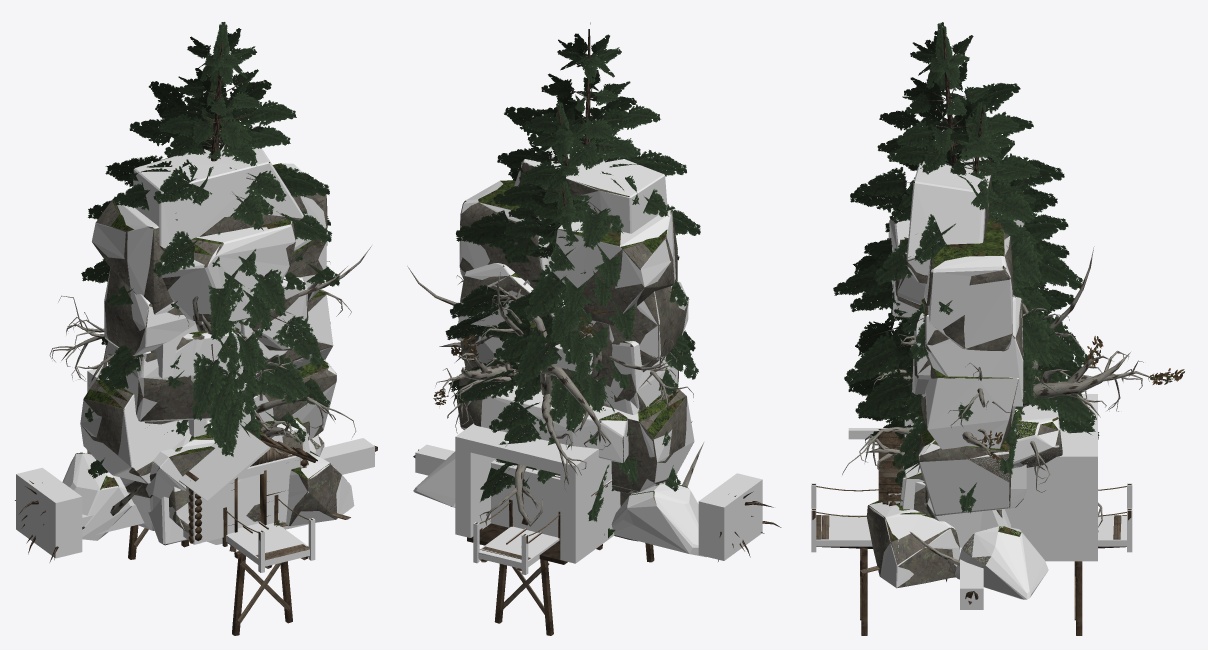
File: Kit_Forest.fbx
The picture shows the model from 3 angles, left to right: view 1: azimuth 30°, elevation 25°; view 2: azimuth 150°, elevation 25°; view 3: azimuth 270°, elevation 25°; orthographic projection. The views are drawn at different scales.
Parts seen in each view (by area): view 1: Tree_Pine_B, CliffChunk_A, COL_Block_5_CONVEX (×2), COL_Block_6_CONVEX, Tree_Pine_A, COL_RootPlate, COL_Block_1_CONVEX, COL_Block_3_CONVEX (×2), Bridge_Broken, COL_Block_7_CONVEX, COL_RocksL_CONVEX, COL_Block_0_CONVEX (×2) (+17 smaller); view 2: Tree_Pine_B, CliffChunk_A, Tree_Pine_C, Tree_Pine_A, COL_Block_6_CONVEX (×2), COL_RocksL_CONVEX, COL_Block_7_CONVEX, COL_RootPlate, COL_Wall_L, COL_RocksTop_CONVEX, COL_Ceiling, Tree_Dead_B (+16 smaller); view 3: Tree_Pine_B, Tree_Pine_A, COL_Block_6_CONVEX (×2), COL_Wall_R, CliffChunk_A, COL_Block_8_CONVEX, COL_Block_4_CONVEX (×2), COL_Block_2_CONVEX, COL_RocksR_CONVEX, Tree_Pine_C, Boulder_Large, Tree_Gnarled (+16 smaller).
Part boxes in pixels (x1=…): Tree_Pine_B: x1=81, y1=22, x2=339, y2=420; CliffChunk_A: x1=82, y1=163, x2=336, y2=498; COL_Block_5_CONVEX (×2): x1=104, y1=221, x2=295, y2=355; COL_Block_6_CONVEX: x1=133, y1=143, x2=303, y2=248; Tree_Pine_A: x1=106, y1=76, x2=330, y2=439; COL_RootPlate: x1=16, y1=467, x2=82, y2=558; COL_Block_1_CONVEX: x1=80, y1=377, x2=207, y2=483; COL_Block_3_CONVEX (×2): x1=106, y1=321, x2=243, y2=421; Bridge_Broken: x1=128, y1=495, x2=312, y2=635; COL_Block_7_CONVEX: x1=92, y1=201, x2=174, y2=314; COL_RocksL_CONVEX: x1=62, y1=453, x2=134, y2=540; COL_Block_0_CONVEX (×2): x1=120, y1=432, x2=309, y2=544; Tree_Pine_B: x1=445, y1=22, x2=700, y2=388; CliffChunk_A: x1=457, y1=180, x2=688, y2=541; Tree_Pine_C: x1=480, y1=180, x2=680, y2=521; Tree_Pine_A: x1=448, y1=100, x2=688, y2=446; COL_Block_6_CONVEX (×2): x1=457, y1=146, x2=667, y2=343; COL_RocksL_CONVEX: x1=611, y1=482, x2=706, y2=557; COL_Block_7_CONVEX: x1=552, y1=210, x2=675, y2=324; COL_RootPlate: x1=698, y1=473, x2=762, y2=560; COL_Wall_L: x1=560, y1=459, x2=620, y2=563; COL_RocksTop_CONVEX: x1=467, y1=383, x2=628, y2=462; COL_Ceiling: x1=455, y1=423, x2=601, y2=477; Tree_Dead_B: x1=447, y1=279, x2=611, y2=527; Tree_Pine_B: x1=833, y1=22, x2=1087, y2=406; Tree_Pine_A: x1=847, y1=101, x2=1099, y2=513; COL_Block_6_CONVEX (×2): x1=906, y1=140, x2=1023, y2=406; COL_Wall_R: x1=1005, y1=458, x2=1097, y2=561; CliffChunk_A: x1=901, y1=191, x2=1023, y2=515; COL_Block_8_CONVEX: x1=924, y1=236, x2=1012, y2=349; COL_Block_4_CONVEX (×2): x1=912, y1=309, x2=1018, y2=449; COL_Block_2_CONVEX: x1=918, y1=440, x2=1009, y2=515; COL_RocksR_CONVEX: x1=955, y1=526, x2=1048, y2=599; Tree_Pine_C: x1=858, y1=178, x2=1098, y2=486; Boulder_Large: x1=867, y1=472, x2=959, y2=587; Tree_Gnarled: x1=865, y1=336, x2=1184, y2=472.
Bounding box in the file's own units: 13.93 × 20.95 × 12.1.
